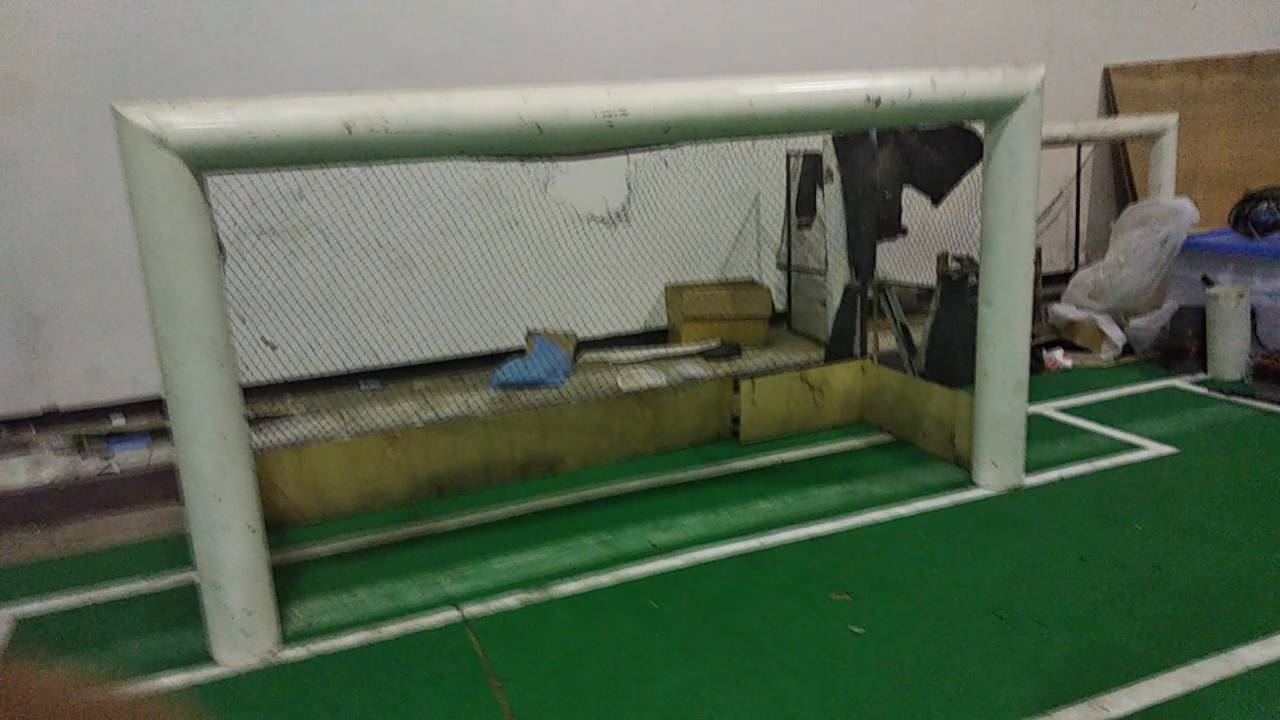gawang: (98, 57, 1058, 682)
